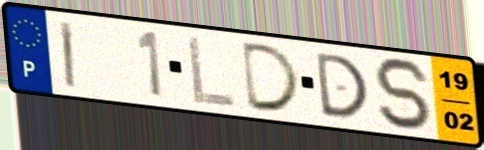1: (134, 30, 165, 101)
D: (240, 40, 306, 115), (312, 50, 371, 120)
I: (57, 18, 79, 91)
L: (185, 34, 239, 110)
S: (370, 55, 437, 133)
